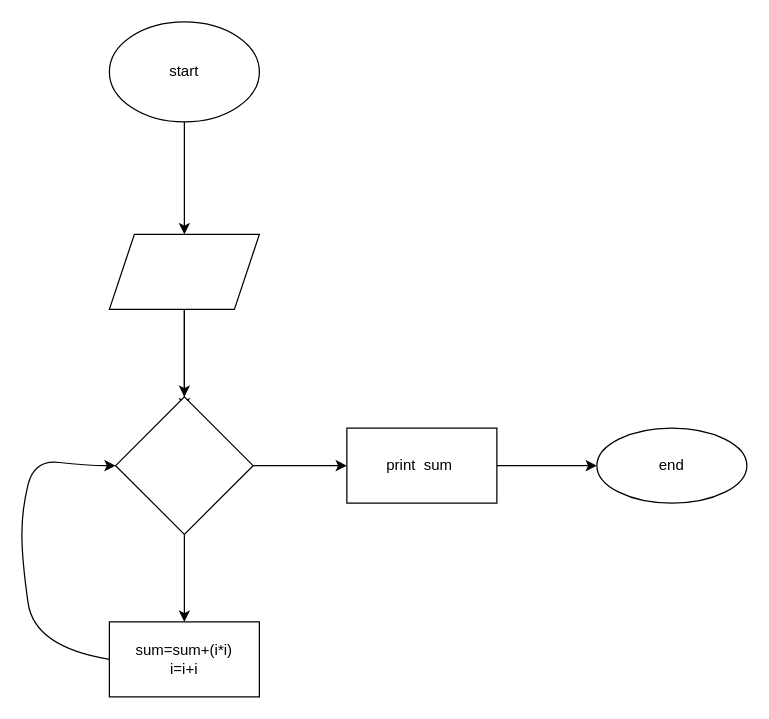
The diagram is 769 pixels wide and 719 high, and some of its shapes have lost their labels. The shapes that lost their labels are listed below. From the top down, each one's centre as x and y in pixels, then its label:
point (183, 271): What is your number :
point (183, 465): sum=0 i=1 i<=n
